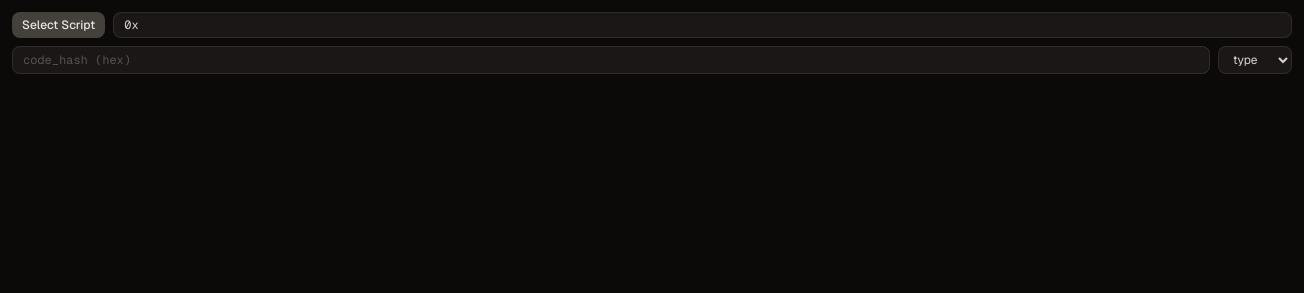
Test: ScriptSelector › shows only lock protocols in the lock picker
Click the button "Select Script". click: (59, 25)
box: top-left (12, 12), bottom-right (105, 38)
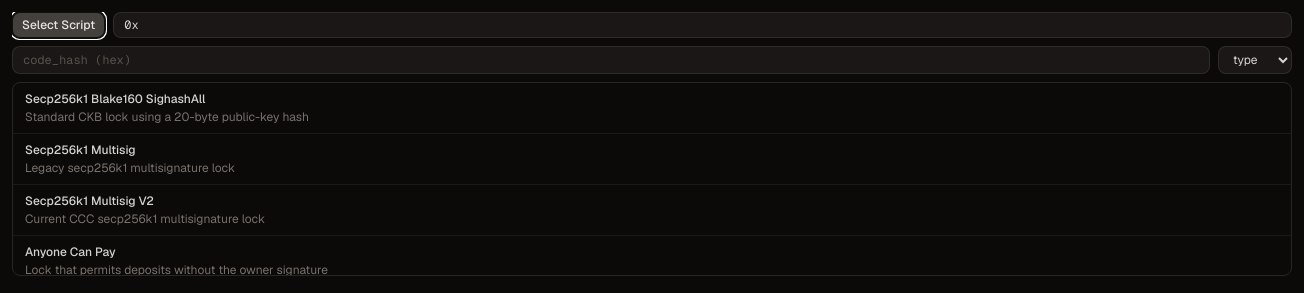
Expected: the text "Secp256k1 Blake160 SighashAll" is shown, top-left (25, 91), bottom-right (206, 107)
